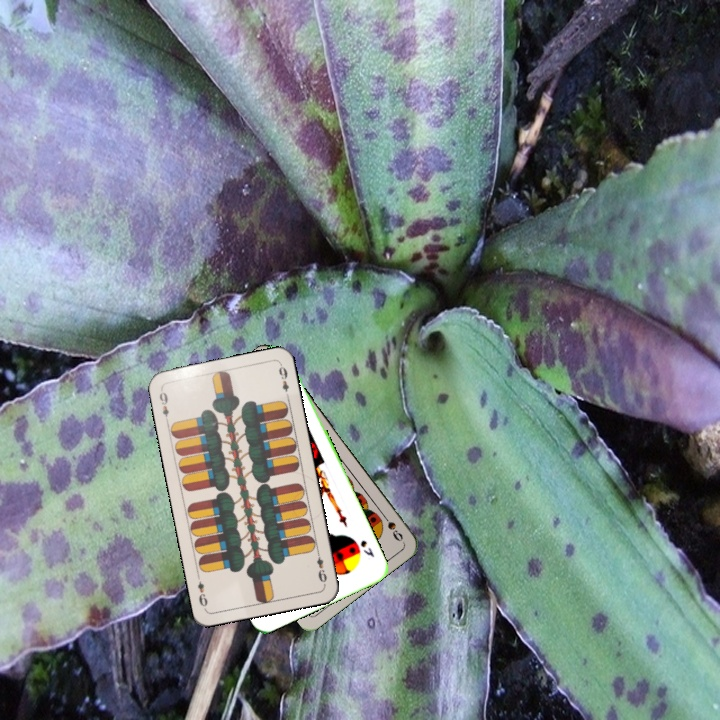E9: (313, 546, 330, 587), (155, 385, 172, 425)
S9: (377, 508, 406, 544)
SK: (356, 536, 377, 560)
